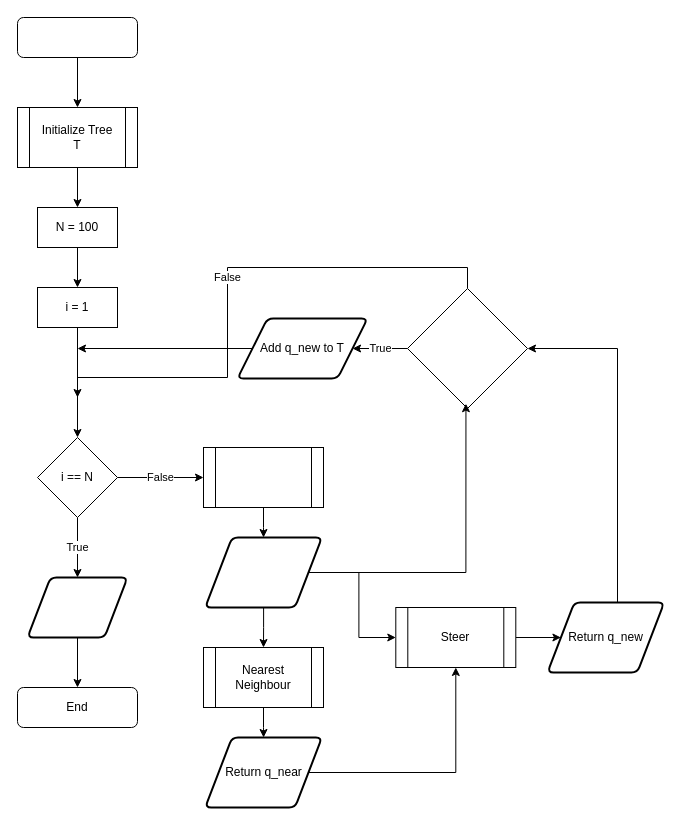
Image size: 683x826. Some labels were removed from this diagram. Here are the shapes that lost their labels. From the top down, the centre of each, then its label:
At (x=77, y=37): "Start".
At (x=467, y=348): "Obstacle Free".
At (x=263, y=477): "Random Sample".
At (x=263, y=572): "Return q_rand".
At (x=77, y=607): "Return T".
